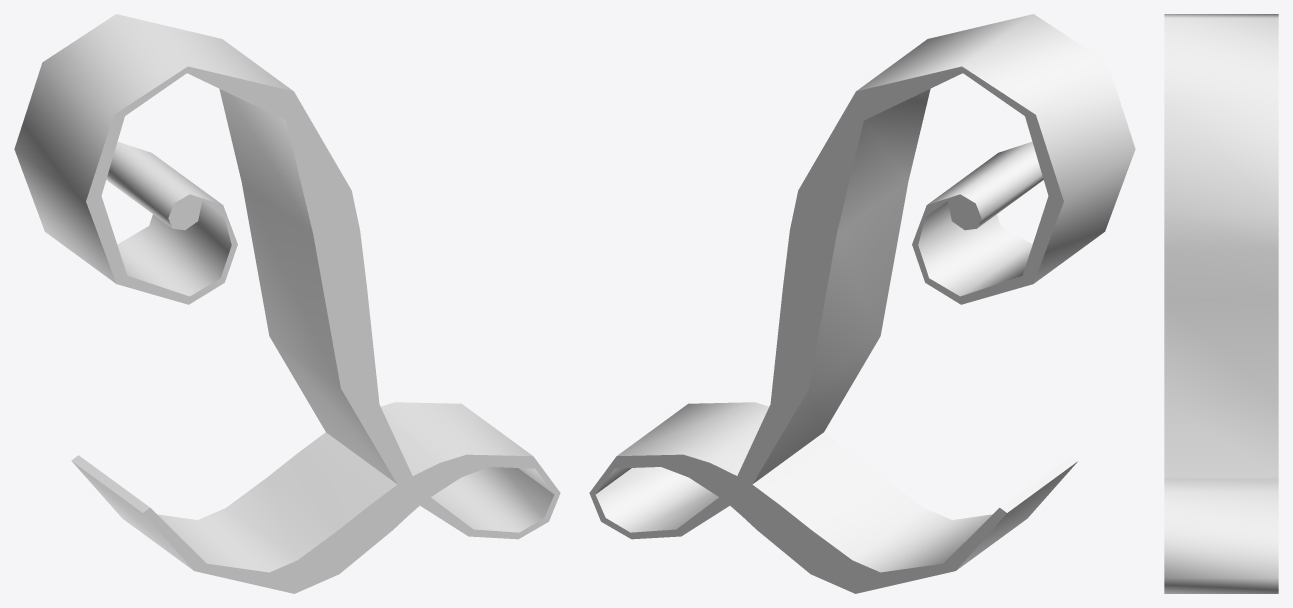
The model's file is lupin.ico.obj.
The picture shows the model from 3 angles, left to right: view 1: azimuth 30°, elevation 25°; view 2: azimuth 150°, elevation 25°; view 3: azimuth 270°, elevation 25°; orthographic projection. The views are drawn at different scales.
Bounding box in the file's own units: 3.82 × 4.26 × 1.
Materials: 1 (1 with a texture image).
